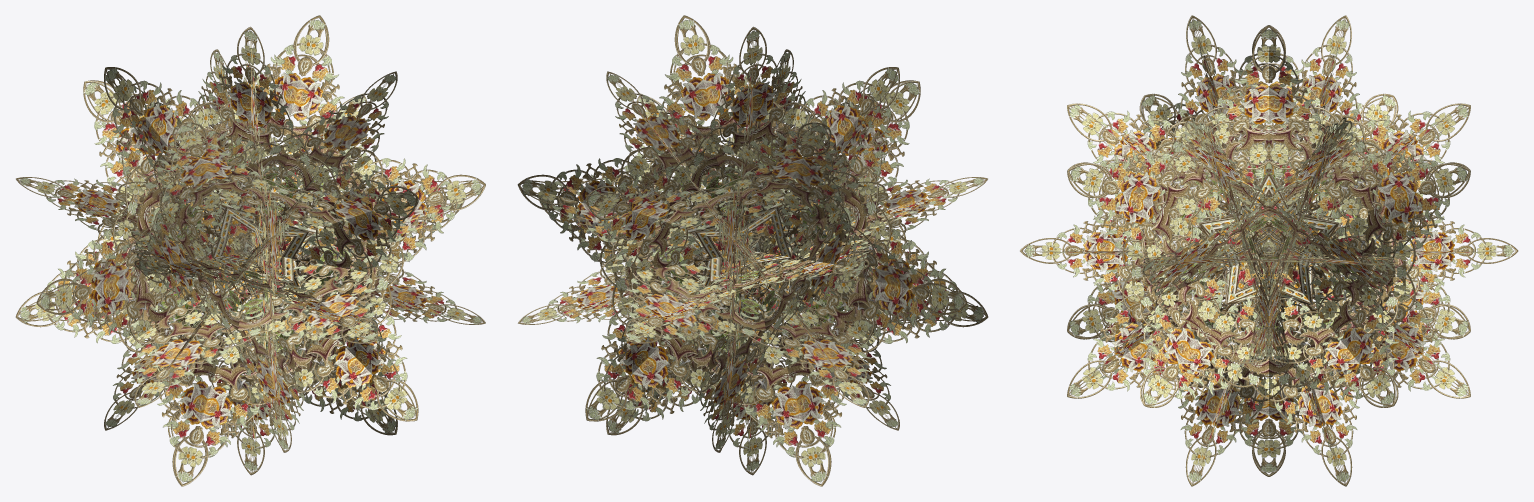
The model's file is GreatDodecahemicosahedron9.gltf.
3 renders of one model, left to right at view 1: azimuth 30°, elevation 25°; view 2: azimuth 150°, elevation 25°; view 3: azimuth 270°, elevation 25°, orthographic.
Parts seen in each view (by area): view 1: GreatDodecahemicosahedron; view 2: GreatDodecahemicosahedron; view 3: GreatDodecahemicosahedron.
Part boxes in pixels (left/top/right/bottom): GreatDodecahemicosahedron: left=15, top=15, right=485, bottom=486; GreatDodecahemicosahedron: left=517, top=15, right=988, bottom=486; GreatDodecahemicosahedron: left=1020, top=15, right=1518, bottom=486.
Bounding box in the file's own units: 2 × 2 × 2.
Materials: 1 (1 with a texture image).
